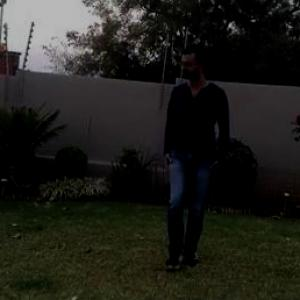follow: (158, 34, 229, 276)
